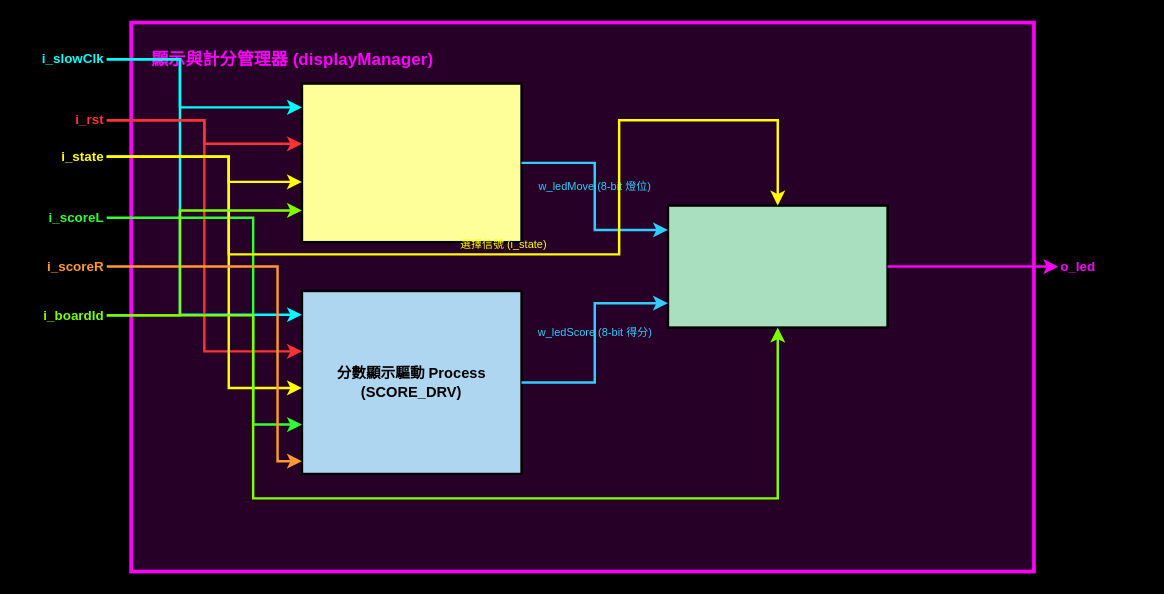
Some shapes in this 1164 by 594 pixel diagram are drawn without their labels. Here are the shapes that lost their labels. From the top down, the box of each, then its label:
(300, 82, 522, 243): LED燈位驅動 Process (LED_DRV)
(666, 204, 888, 328): LED多工選擇 Process (LED_MUX)
